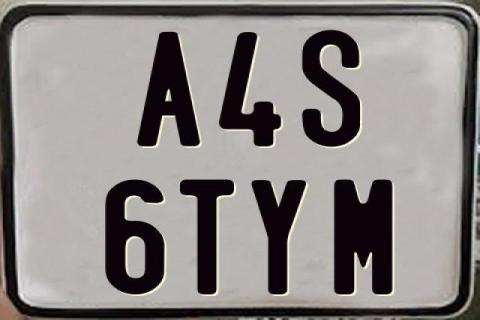0: (219, 30, 287, 150), (102, 179, 162, 296)
A: (137, 32, 201, 146)
M: (331, 179, 394, 295)
S: (299, 29, 363, 147)
T: (180, 179, 234, 297)
Y: (248, 179, 305, 293)
